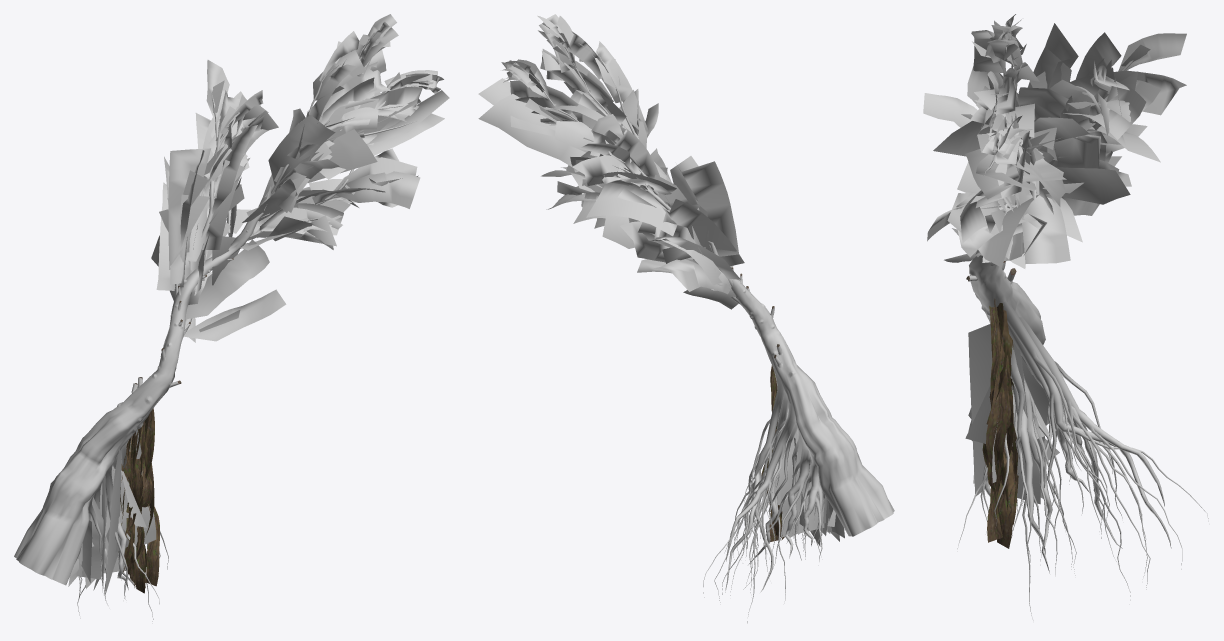
File: Tree_05_1.fbx
3 renders of one model, left to right at view 1: azimuth 30°, elevation 25°; view 2: azimuth 150°, elevation 25°; view 3: azimuth 270°, elevation 25°, orthographic. The views are drawn at different scales.
Visible parts, largest first — view 1: polySurface255; view 2: polySurface255; view 3: polySurface255.
Boxes of the visible parts, left/top/right/bottom form: polySurface255: left=14, top=14, right=449, bottom=621; polySurface255: left=478, top=14, right=894, bottom=623; polySurface255: left=923, top=14, right=1208, bottom=620.
Bounding box in the file's own units: 1075 × 1332 × 459.
